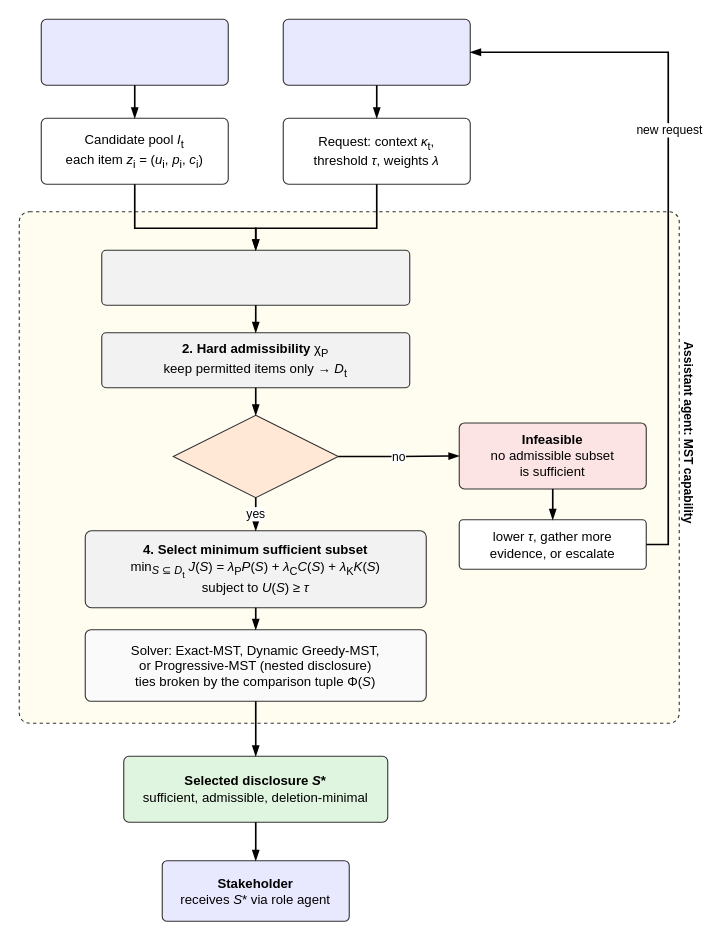
The diagram is 723 pixels wide and 941 high, and some of its shapes have lost their labels. Here are the shapes that lost their labels. From the top down, the box of each, then its label:
(40, 18, 228, 85): Remote agents
(282, 18, 470, 85): Role agent
(101, 249, 410, 305): 1. Policy transformation Π P redact, aggregate, generalise
(172, 414, 338, 498): 3. Feasible? U ( D t ) ≥ τ
